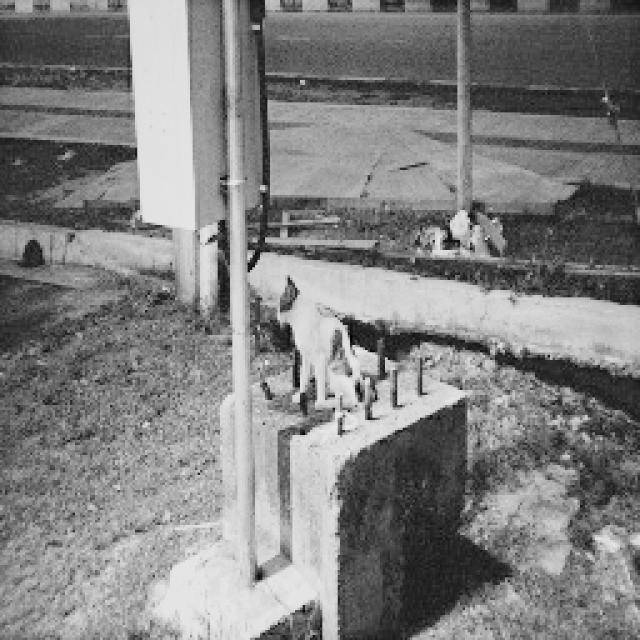cat: (267, 255, 376, 424)
